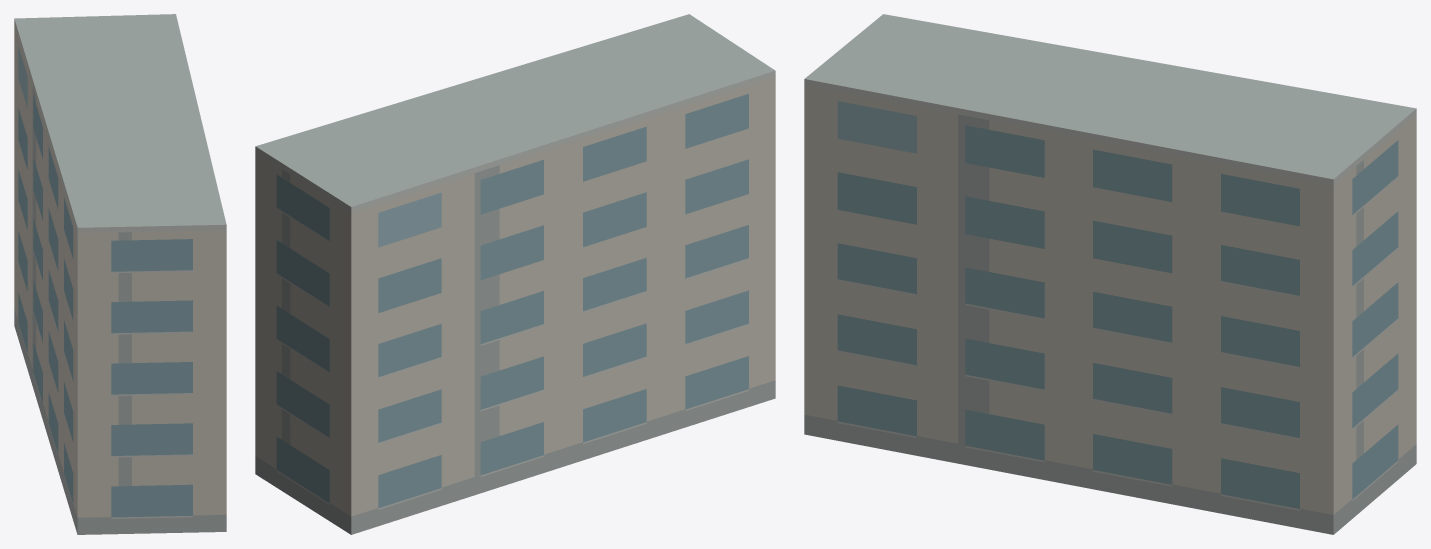
Rendered from survey-upis-32951365.glb.
The picture shows the model from 3 angles, left to right: view 1: azimuth 30°, elevation 25°; view 2: azimuth 150°, elevation 25°; view 3: azimuth 270°, elevation 25°; orthographic projection. The views are drawn at different scales.
Parts seen in each view (by area): view 1: survey-upis-32951365.tmp; view 2: survey-upis-32951365.tmp; view 3: survey-upis-32951365.tmp.
Boxes of the visible parts, box(x1,y1,x2,y2) form: survey-upis-32951365.tmp: box(14, 14, 226, 534); survey-upis-32951365.tmp: box(255, 14, 775, 534); survey-upis-32951365.tmp: box(804, 14, 1416, 534).
Bounding box in the file's own units: 13.68 × 13.7 × 21.39.
